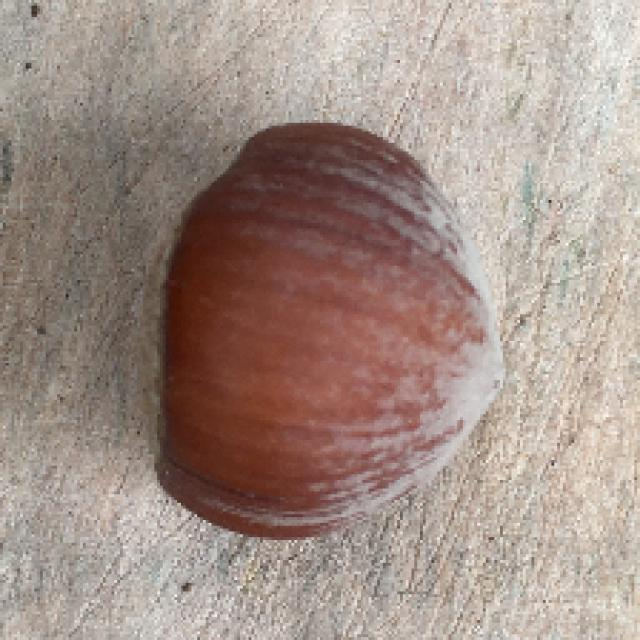QualityHazelnut: (135, 125, 505, 544)
